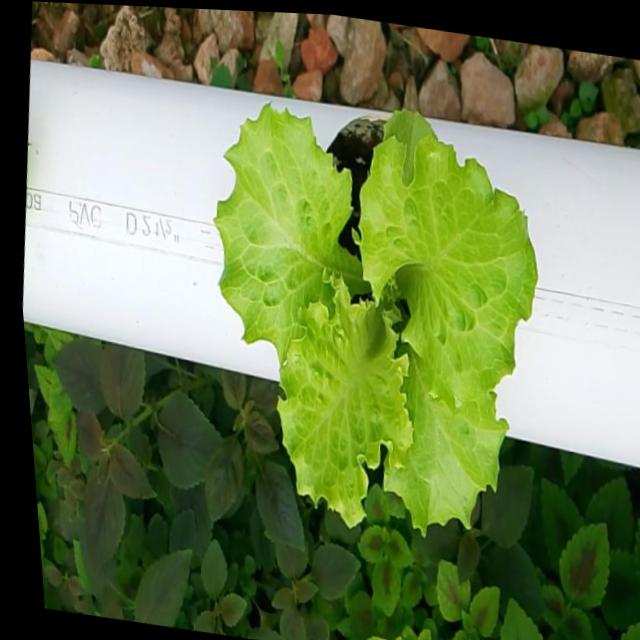Baby: (206, 115, 531, 546)
